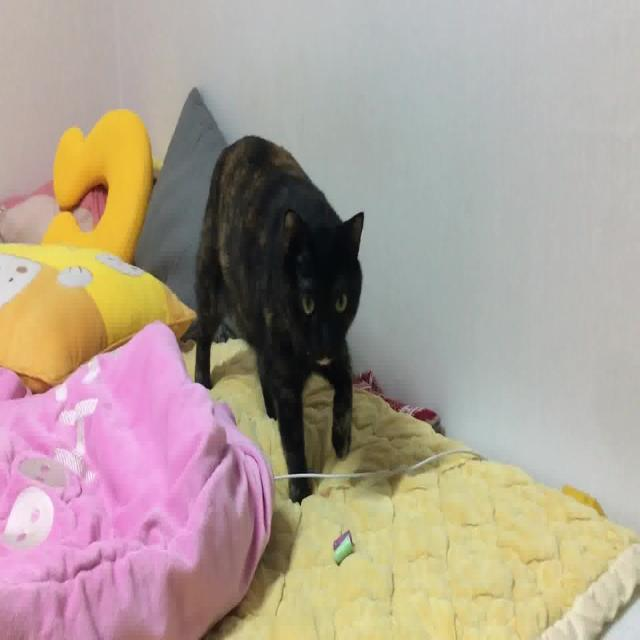cat: (186, 133, 366, 510)
